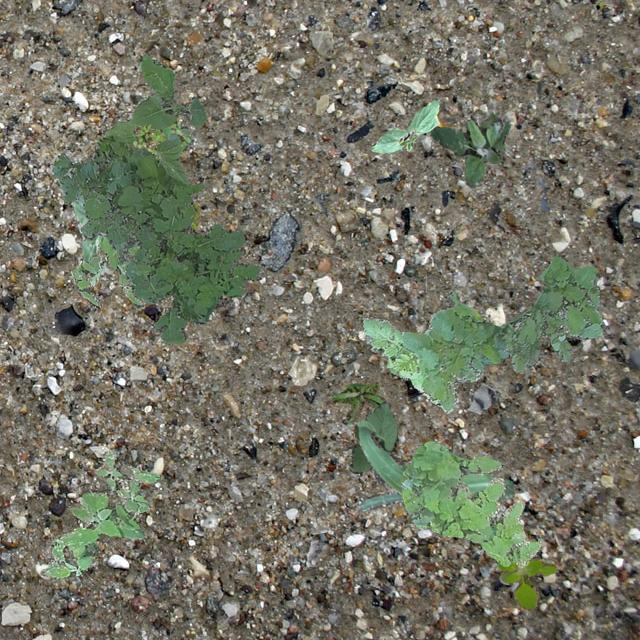crop: (354, 420, 514, 510), (348, 398, 397, 472), (370, 100, 438, 152), (70, 196, 106, 284)
weed: (49, 132, 262, 342), (362, 256, 604, 412), (400, 439, 540, 566), (40, 449, 158, 578), (104, 54, 205, 184), (428, 112, 508, 186), (68, 236, 142, 308), (497, 556, 555, 610), (332, 382, 384, 422), (132, 120, 188, 154), (190, 202, 198, 230)
